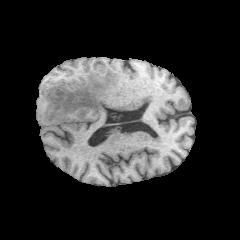glioma: (39, 67, 122, 126)
